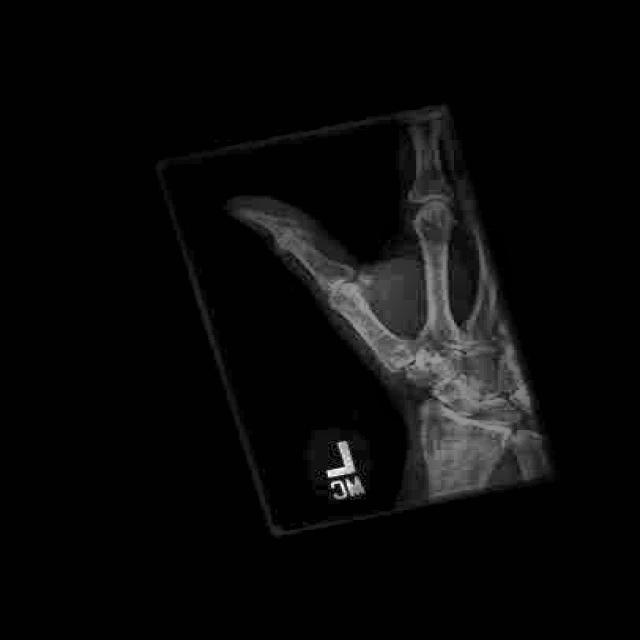fingers positive: (265, 206, 336, 276)
